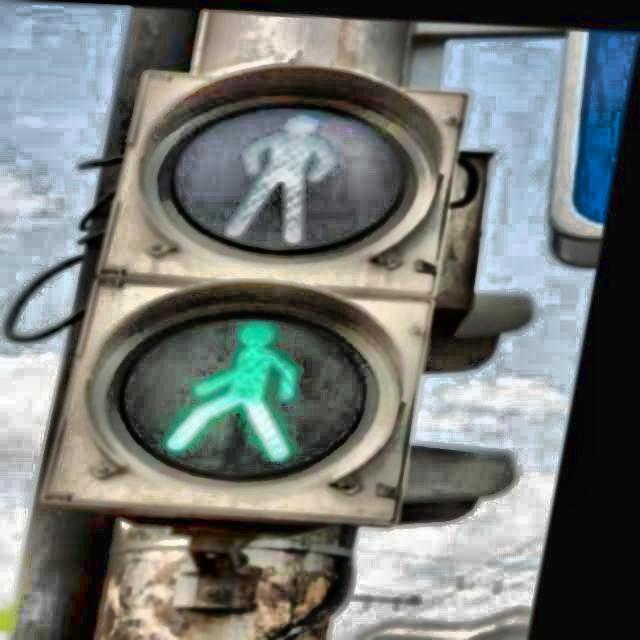semaforo pedestre: (1, 32, 544, 606)
